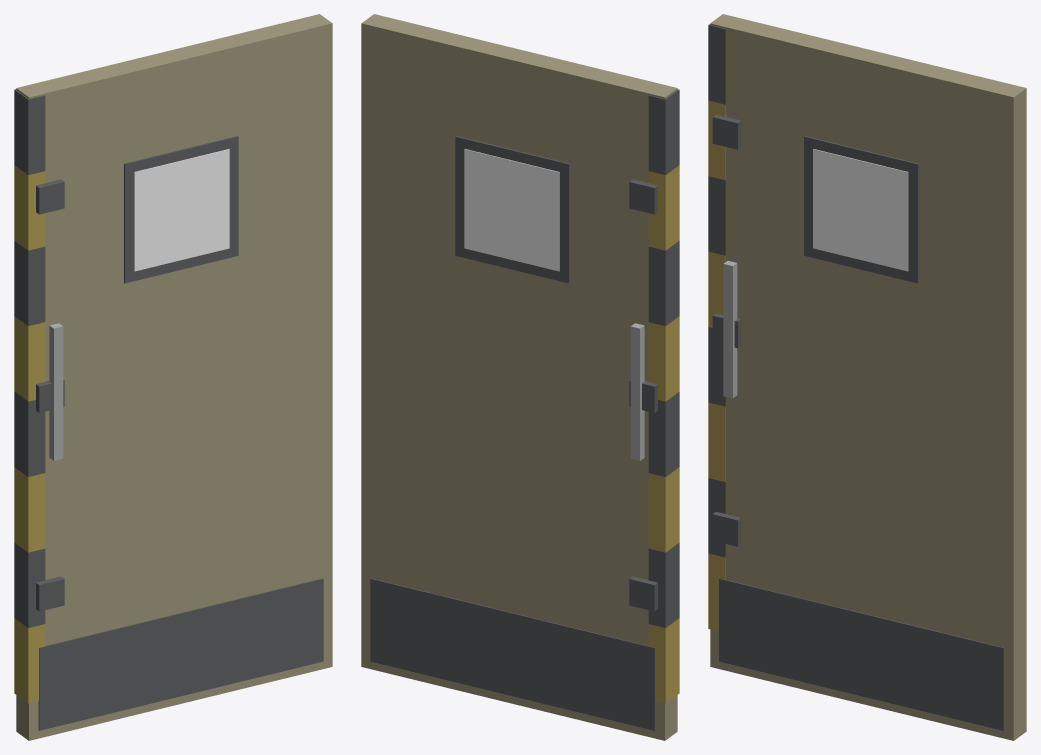
File: airlockWall_steel_door.glb
The picture shows the model from 3 angles, left to right: view 1: azimuth 30°, elevation 25°; view 2: azimuth 150°, elevation 25°; view 3: azimuth 330°, elevation 25°; orthographic projection.
Parts seen in each view (by area): view 1: airlockWall_steel_door; view 2: airlockWall_steel_door; view 3: airlockWall_steel_door.
Part boxes in pixels (bbox=[...]): airlockWall_steel_door: bbox=[14, 14, 332, 740]; airlockWall_steel_door: bbox=[361, 14, 679, 740]; airlockWall_steel_door: bbox=[708, 14, 1026, 740].
Size of the model in its own units: 0.964 by 1.95 by 0.134.
